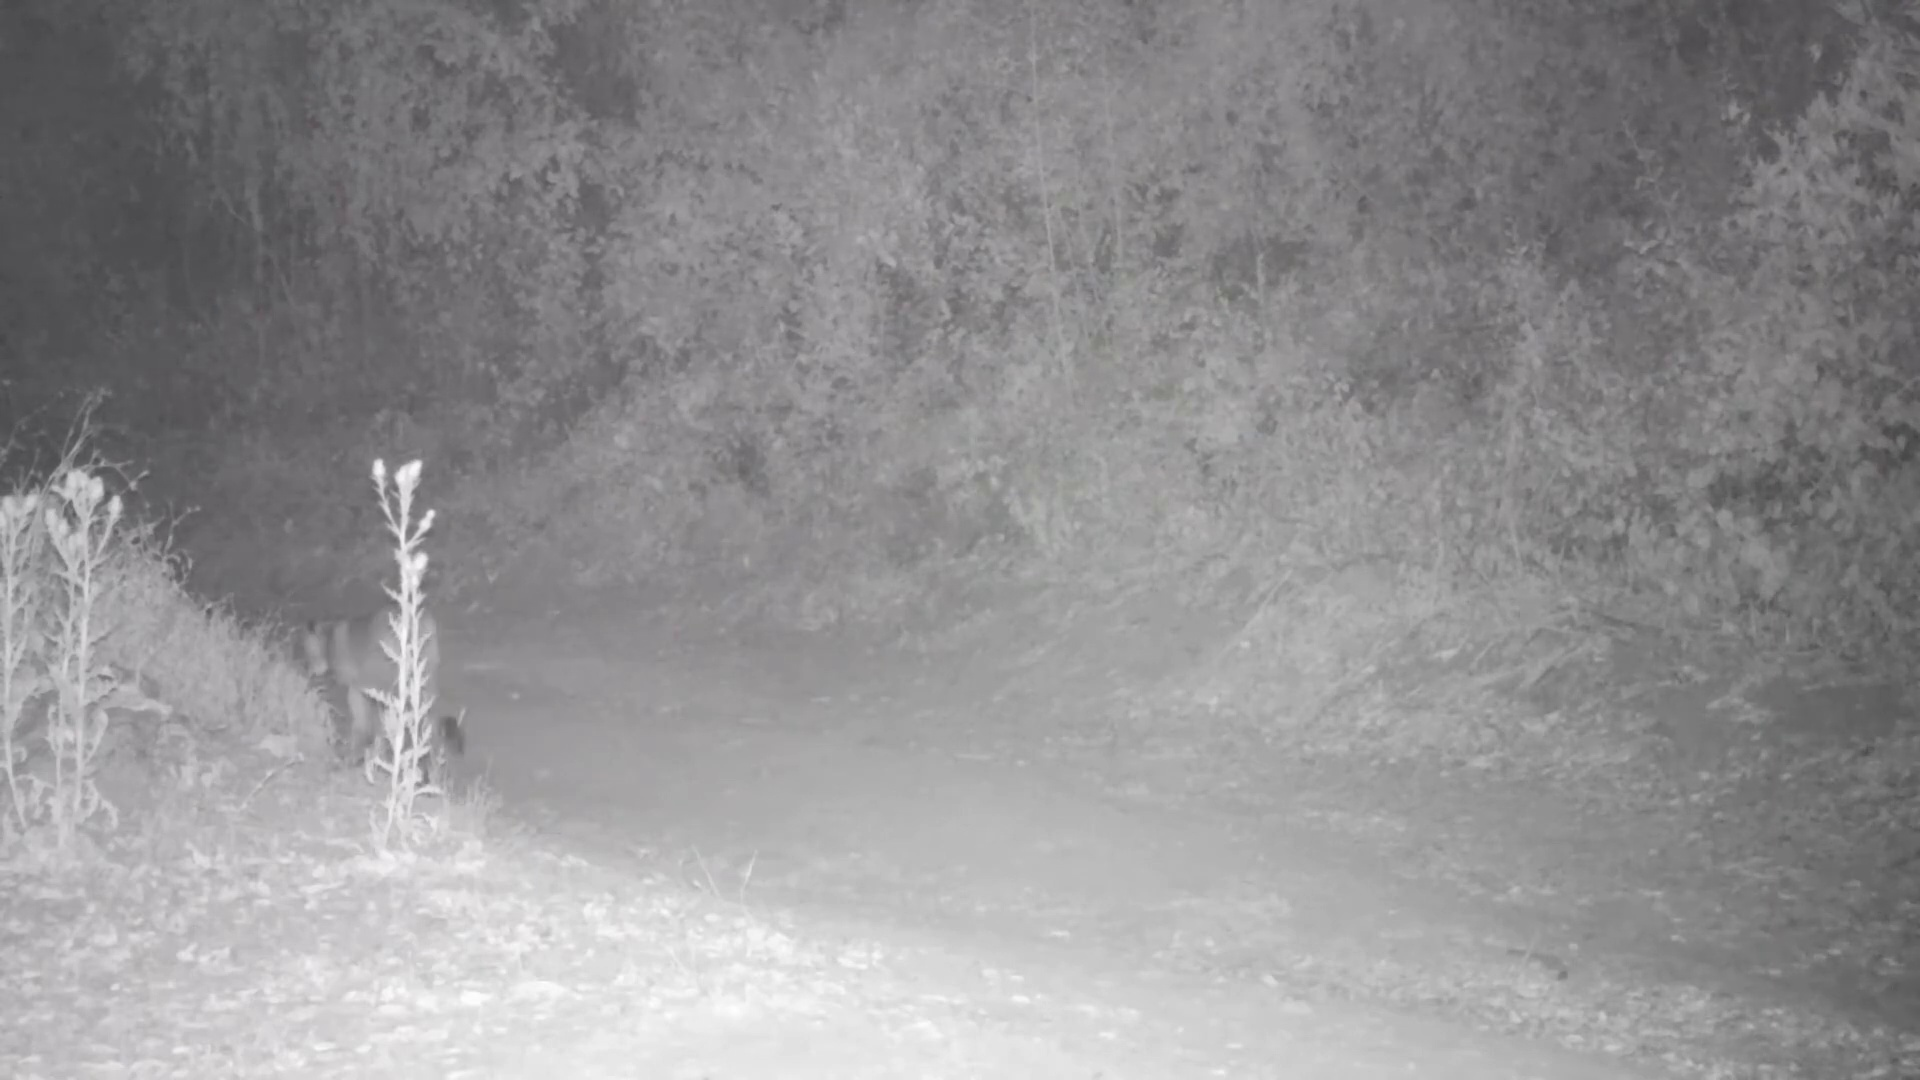Lion: (299, 603, 468, 793)
